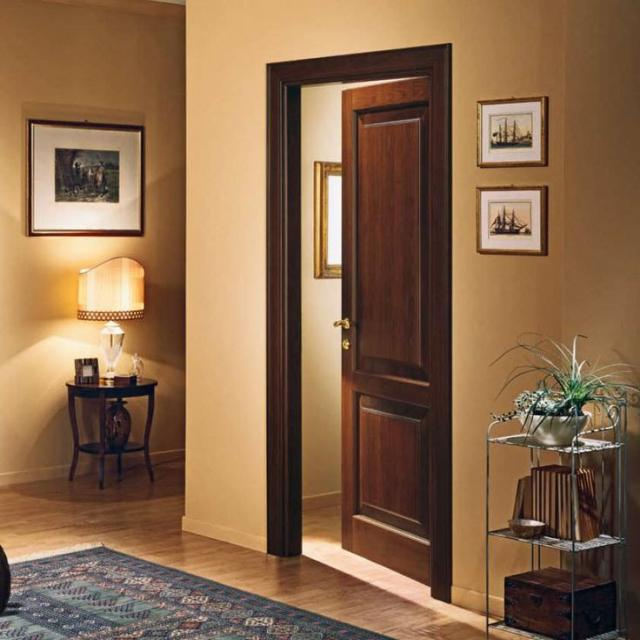open: (269, 68, 456, 589)
